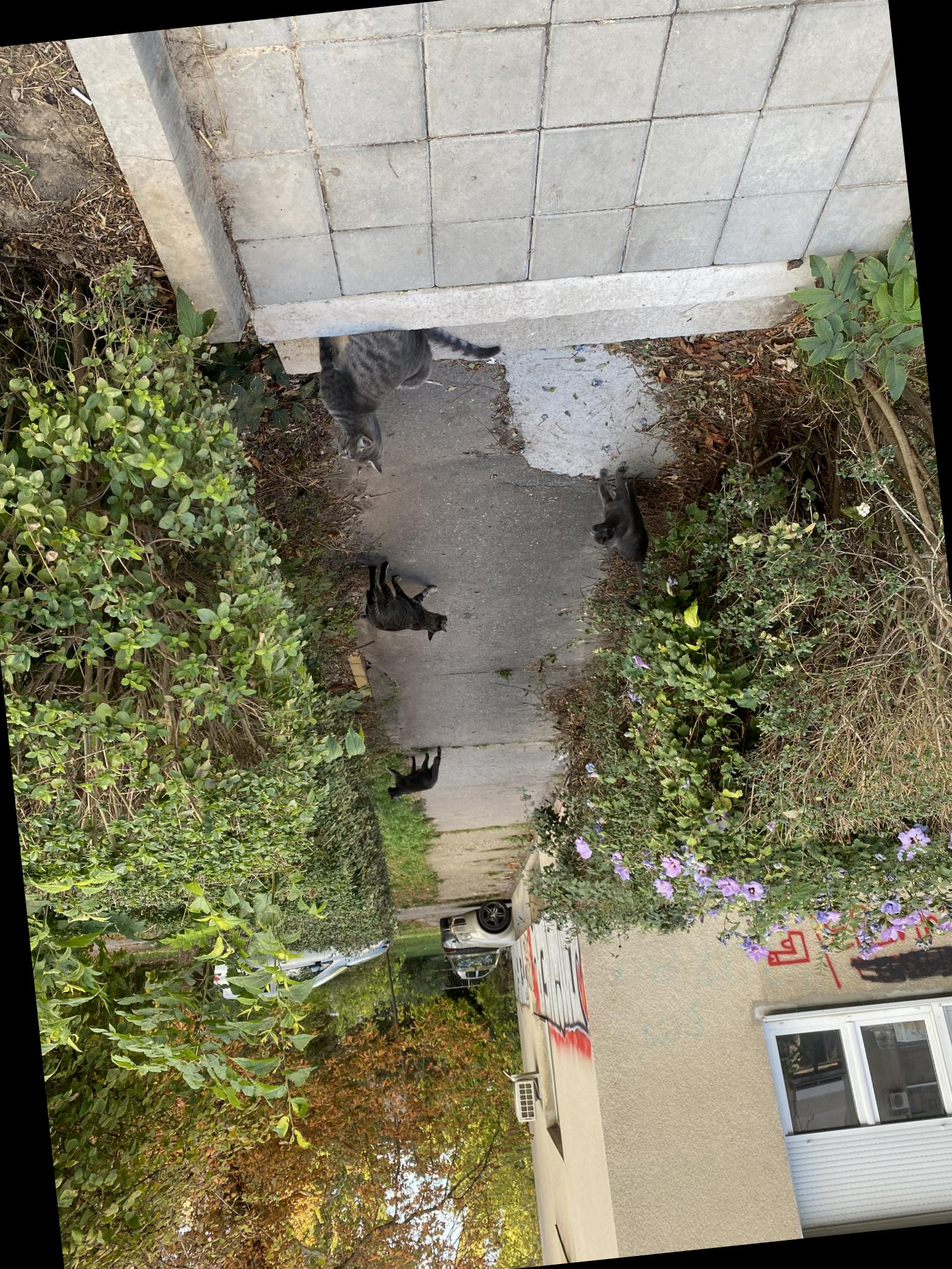macka: (316, 318, 513, 479), (583, 464, 656, 617), (359, 555, 450, 648), (382, 746, 447, 802)
